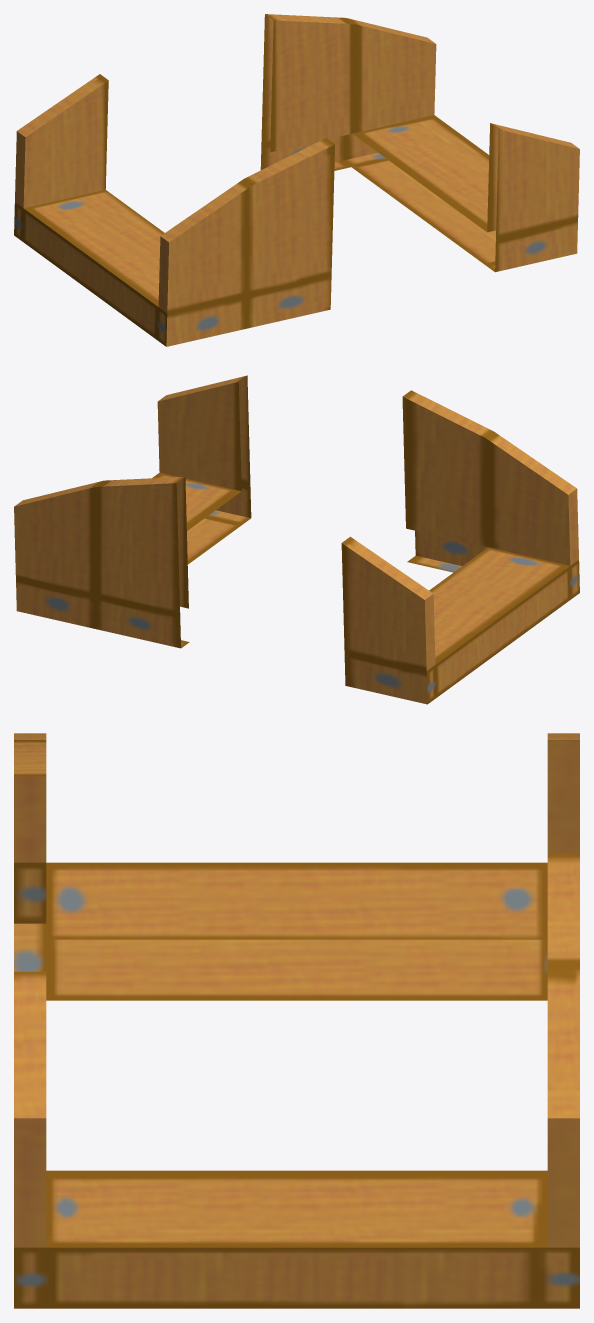
File: SAModel_bridge.fbx
The picture shows the model from 3 angles, top to bottom: view 1: azimuth 30°, elevation 25°; view 2: azimuth 150°, elevation 25°; view 3: azimuth 270°, elevation 25°; orthographic projection. The views are drawn at different scales.
Visible parts, largest first — view 1: Stage0001__1_:BrokenBlidge0; view 2: Stage0001__1_:BrokenBlidge0; view 3: Stage0001__1_:BrokenBlidge0.
Part boxes in pixels (x1,y1,x2,y2): Stage0001__1_:BrokenBlidge0: (14,14,579,346); Stage0001__1_:BrokenBlidge0: (14,375,579,704); Stage0001__1_:BrokenBlidge0: (14,733,579,1308).
Bounding box in the file's own units: 33.92 × 13.2 × 21.65.
